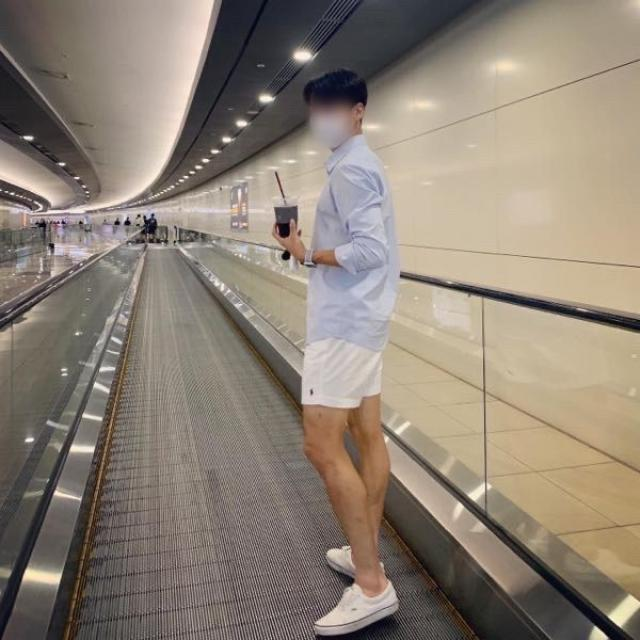shirt: (304, 134, 398, 352)
shortpants: (303, 326, 386, 409)
